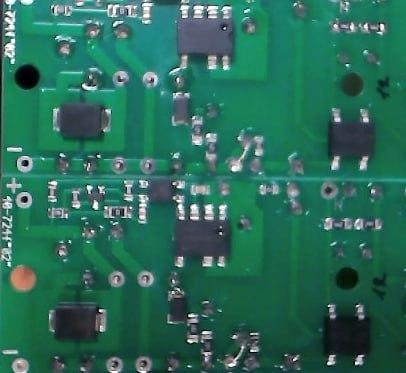chip-capacitor: (140, 2, 153, 25), (190, 183, 211, 196), (138, 203, 148, 225)
chip-resistor: (322, 216, 352, 232), (103, 205, 134, 220), (186, 312, 200, 345), (354, 217, 384, 232), (191, 114, 205, 146), (106, 4, 137, 18), (204, 131, 218, 162), (358, 20, 386, 35), (201, 330, 214, 361), (330, 20, 356, 33), (46, 206, 69, 220), (49, 4, 73, 17), (122, 179, 135, 203), (249, 331, 261, 354), (258, 183, 279, 196), (253, 135, 264, 157), (47, 180, 58, 202), (71, 187, 81, 210)
diode: (47, 302, 108, 340), (52, 102, 113, 139), (170, 90, 192, 127), (166, 288, 187, 325)
ic: (177, 2, 236, 73), (173, 202, 232, 269), (322, 301, 372, 369), (327, 106, 374, 173), (137, 177, 186, 205)
transistor: (84, 183, 106, 211)
